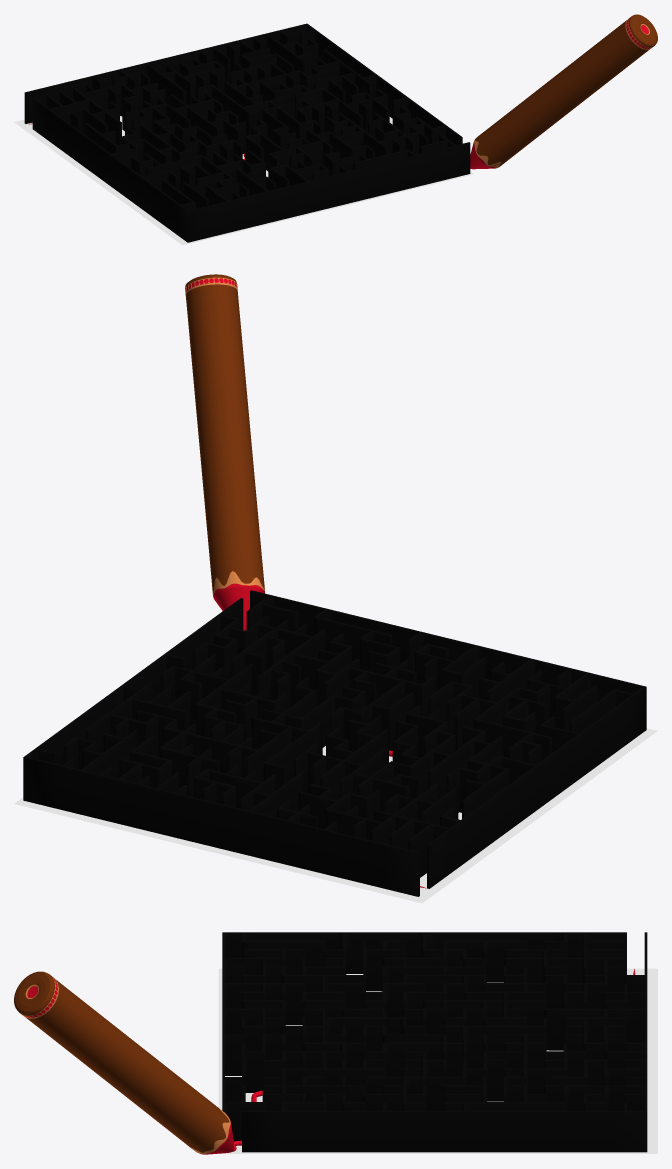
The model's file is Labyrinthe.fbx.
3 views of the same model, one above another, from view 1: azimuth 30°, elevation 25°; view 2: azimuth 150°, elevation 25°; view 3: azimuth 270°, elevation 25° (orthographic). The views are drawn at different scales.
Parts seen in each view (by area): view 1: Labyrinthe, Crayon, Plane; view 2: Labyrinthe, Crayon, Plane; view 3: Labyrinthe, Crayon, Plane.
Boxes of the visible parts, box(x1,y1,x2,y2) form: Labyrinthe: box(24, 23, 470, 242); Crayon: box(470, 14, 657, 169); Plane: box(14, 116, 473, 245); Labyrinthe: box(23, 590, 646, 896); Crayon: box(185, 274, 264, 630); Plane: box(14, 728, 657, 903); Labyrinthe: box(222, 932, 647, 1152); Crayon: box(14, 971, 234, 1154); Plane: box(218, 968, 657, 1153).
Bounding box in the file's own units: 1054 × 458 × 1114.
